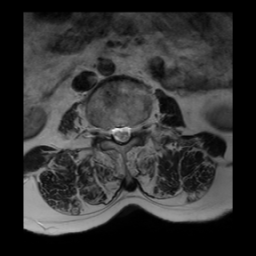CCS_normal: (118, 118, 125, 148)
LFS_normal: (132, 119, 139, 140)
LLS_normal: (125, 117, 132, 145)
RFS_normal: (104, 121, 111, 143)
RLS_normal: (111, 120, 118, 145)
